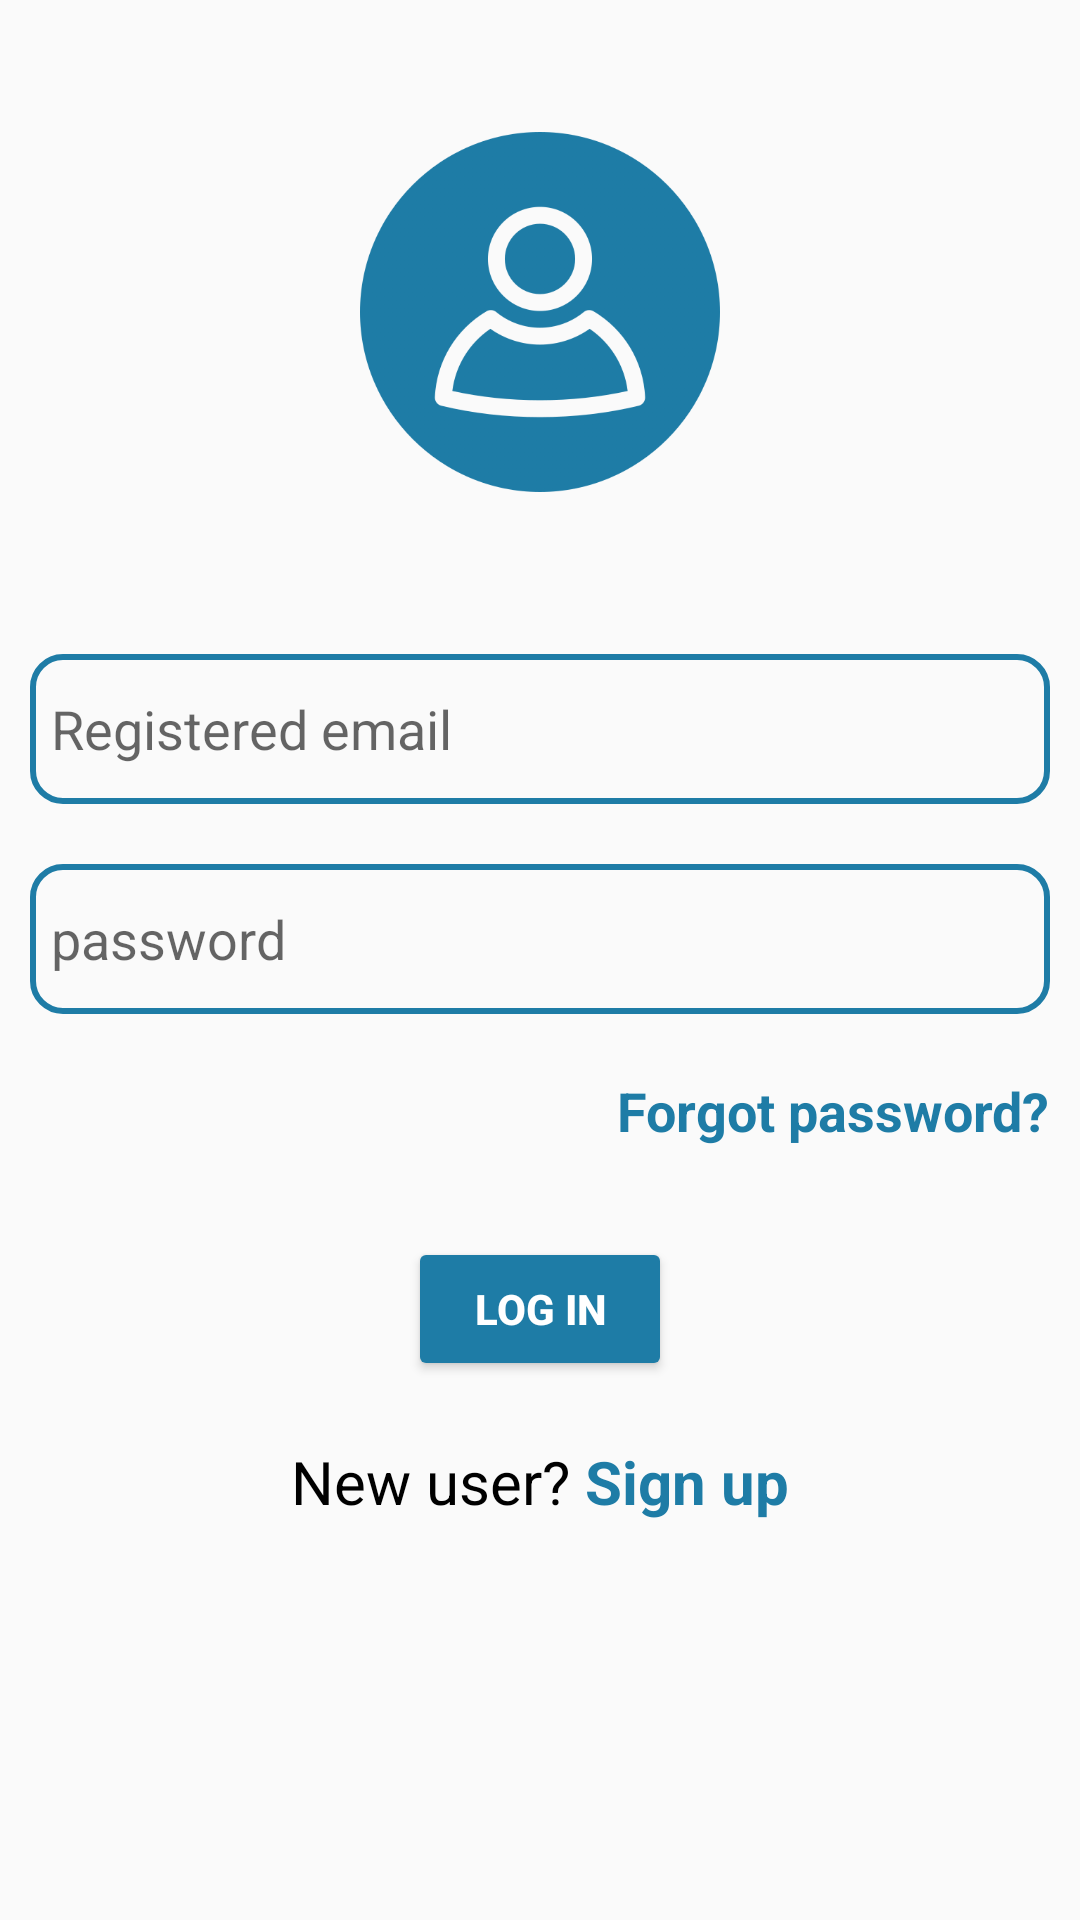

Screen size 1080 × 1920. Icon name, then its center in pixels as (x,y):
login: (540,312)
